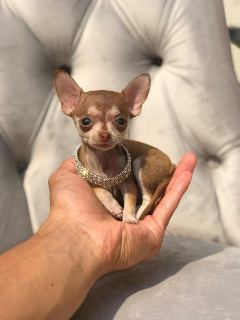chihuahua: (39, 65, 178, 227)
